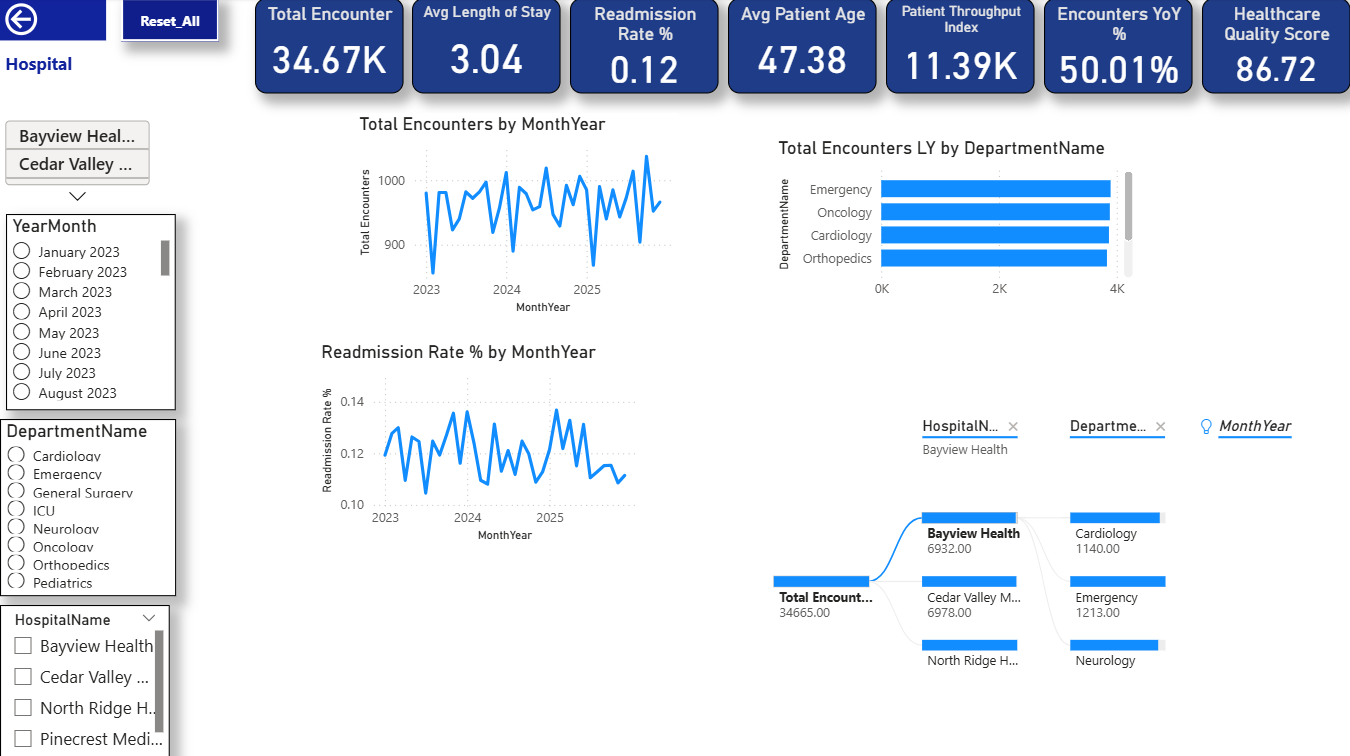

The dashboard page shown, as its layout file describes it:
{"tool":"powerbi","page":{"name":"Hospital Details","canvas":[1280,720],"ordinal":4},"visuals":[{"type":"actionButton","box":[0,0,100,40],"z":0},{"type":"textbox","box":[0,46.6,150.4,50.1],"z":1000},{"type":"cardVisual","fields":{"Rows":["DimHospital.HospitalName"]},"box":[0,90.4,146.9,112.8],"z":2000},{"type":"card","title":"Total Encounter","fields":{"Values":["_Measures.Total Encounters"]},"box":[240,0,139.7,90.4],"z":3000},{"type":"card","title":"Avg Length of Stay","fields":{"Values":["_Measures.Avg Length of Stay"]},"box":[388.6,0,140,90],"z":4000},{"type":"card","title":"Readmission Rate %","fields":{"Values":["_Measures.Readmission Rate %"]},"box":[537.5,0,140,90],"z":5000},{"type":"card","title":"Avg Patient Age","fields":{"Values":["_Measures.Avg Patient Age"]},"box":[686.4,0,140,90],"z":6000},{"type":"card","title":"Patient Throughput Index","fields":{"Values":["_Measures.Patient Throughput Index"]},"box":[835.3,0,140,90],"z":7000},{"type":"card","title":"Encounters YoY %","fields":{"Values":["_Measures.Encounters YoY %"]},"box":[984.2,0,140,90],"z":8000},{"type":"card","title":"Healthcare Quality Score","fields":{"Values":["_Measures.Healthcare Quality Score"]},"box":[1133.1,0,139.7,90.4],"z":9000},{"type":"lineChart","fields":{"Category":["DimDate.MonthYear"],"Y":["_Measures.Total Encounters"]},"box":[334,108.4,306.3,193.4],"z":10000},{"type":"lineChart","fields":{"Category":["DimDate.MonthYear"],"Y":["_Measures.Readmission Rate %"]},"box":[298.2,323.3,309,193.4],"z":11000},{"type":"clusteredBarChart","fields":{"Category":["DimDepartment.DepartmentName"],"Y":["_Measures.Total Encounters LY"]},"box":[728.1,130.7,343.9,161.2],"z":12000},{"type":"decompositionTreeVisual","fields":{"Analyze":["_Measures.Total Encounters"],"ExplainBy":["DimHospital.HospitalName","DimDepartment.DepartmentName","DimDate.MonthYear"]},"box":[699.4,377.9,523,259.7],"z":13000},{"type":"listSlicer","fields":{"Values":["DimDate.YearMonth"]},"box":[5.4,203.8,160.3,184.8],"z":15000},{"type":"listSlicer","fields":{"Values":["DimDepartment.DepartmentName"]},"box":[0,396.8,165.8,166.7],"z":16000},{"type":"slicer","fields":{"Values":["DimHospital.HospitalName"]},"box":[0,571.6,160.3,148.6],"z":17000},{"type":"actionButton","box":[114.1,0,92.4,40.8],"z":18000}]}

Visuals, with their boxes in screenshot pixels (x1, y1, x2, y2), scaled from the page's 1280x720 canvas onto the 1350x756 screenshot:
actionButton: bbox=(0, 0, 105, 42)
textbox: bbox=(0, 49, 159, 102)
cardVisual - DimHospital.HospitalName: bbox=(0, 95, 155, 213)
"Total Encounter" card: bbox=(253, 0, 400, 95)
"Avg Length of Stay" card: bbox=(410, 0, 558, 94)
"Readmission Rate %" card: bbox=(567, 0, 715, 94)
"Avg Patient Age" card: bbox=(724, 0, 872, 94)
"Patient Throughput Index" card: bbox=(881, 0, 1029, 94)
"Encounters YoY %" card: bbox=(1038, 0, 1186, 94)
"Healthcare Quality Score" card: bbox=(1195, 0, 1342, 95)
lineChart - DimDate.MonthYear x _Measures.Total Encounters: bbox=(352, 114, 675, 317)
lineChart - DimDate.MonthYear x _Measures.Readmission Rate %: bbox=(315, 339, 640, 543)
clusteredBarChart - DimDepartment.DepartmentName x _Measures.Total Encounters LY: bbox=(768, 137, 1131, 306)
decompositionTreeVisual - _Measures.Total Encounters x DimHospital.HospitalName: bbox=(738, 397, 1289, 669)
listSlicer - DimDate.YearMonth: bbox=(6, 214, 175, 408)
listSlicer - DimDepartment.DepartmentName: bbox=(0, 417, 175, 592)
slicer - DimHospital.HospitalName: bbox=(0, 600, 169, 755)
actionButton: bbox=(120, 0, 218, 43)
